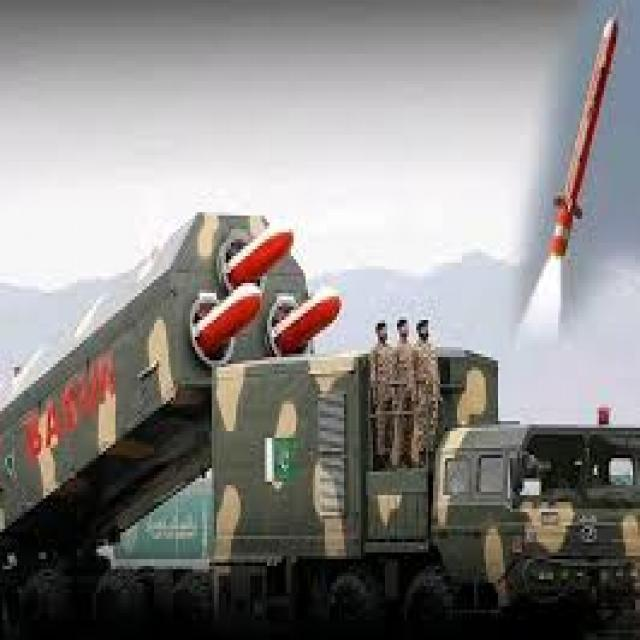Missile: (549, 14, 622, 266)
